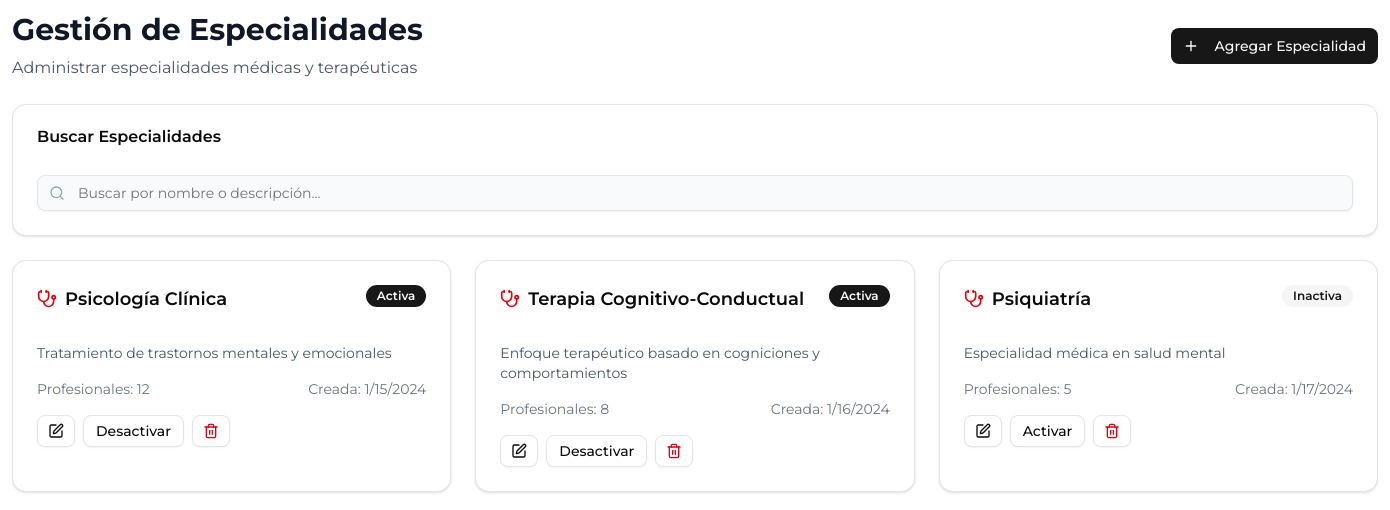
Test: AdminSpecialties › should show empty state when no specialties match search
Expected: the text "Psicología Clínica" is shown, [65, 285, 227, 313]
Type "NonExistent" into the field with placeholder "Buscar por nombre o descripción...". click: [695, 193]
box: [37, 175, 1353, 211]
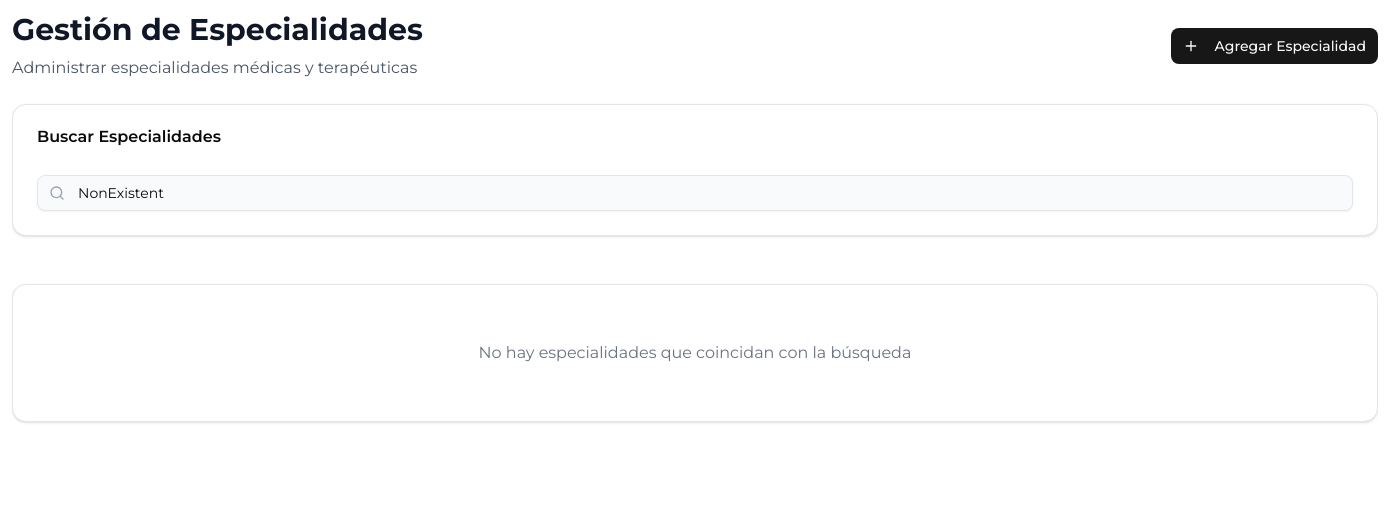
Expected: the text "No hay especialidades que coincidan con la búsqueda" is shown, [479, 343, 911, 362]
